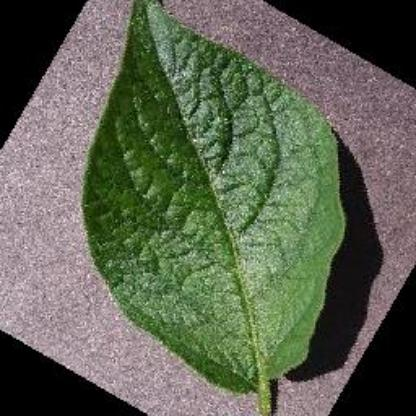Healthy-plant: (77, 0, 356, 414)
